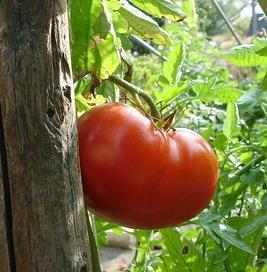tomato: (75, 102, 219, 228)
